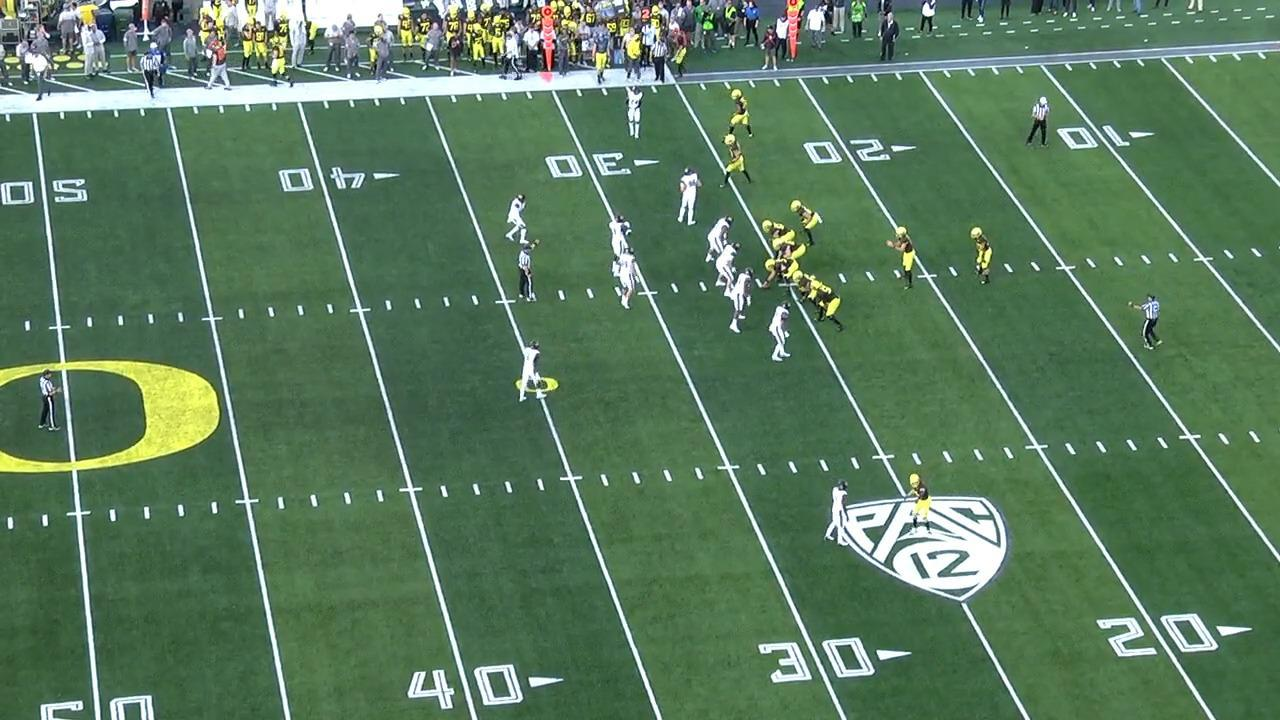defense: (725, 265, 757, 337), (612, 248, 643, 312), (824, 477, 853, 545), (519, 341, 548, 407), (760, 302, 789, 367), (677, 164, 704, 228), (710, 240, 739, 299), (701, 214, 733, 264), (610, 212, 638, 268), (624, 83, 649, 144), (503, 192, 530, 247)
oline: (808, 278, 849, 334), (763, 218, 800, 256), (761, 256, 799, 288), (772, 235, 803, 268), (792, 270, 815, 305)
qb: (889, 225, 922, 292)
ref: (1136, 293, 1163, 354), (33, 370, 59, 433), (135, 49, 162, 108), (1029, 93, 1056, 150), (514, 242, 537, 307)
skill: (904, 474, 937, 539), (718, 133, 755, 189), (970, 220, 998, 286), (792, 200, 825, 253), (723, 87, 754, 141)
